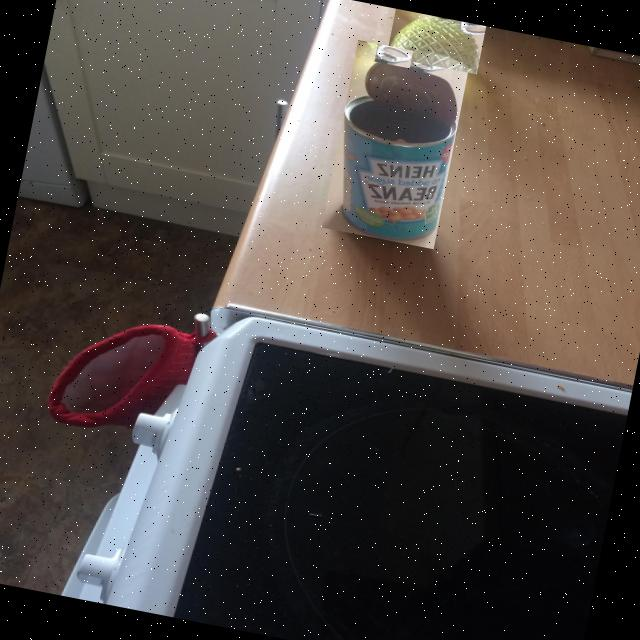Food Can: (342, 54, 457, 242)
Glass cup: (386, 16, 479, 74)
Pop tab: (377, 46, 412, 65)
